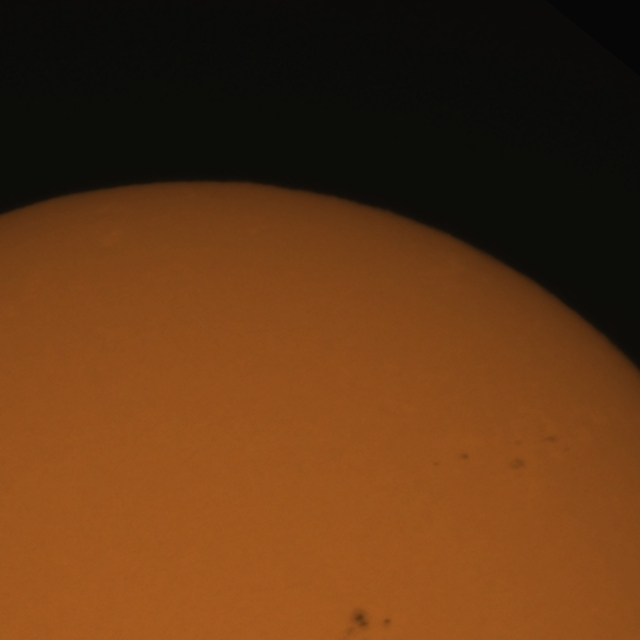sunspot: (350, 609, 393, 638), (350, 608, 372, 635), (510, 455, 526, 472), (458, 451, 470, 463), (432, 460, 440, 468)
